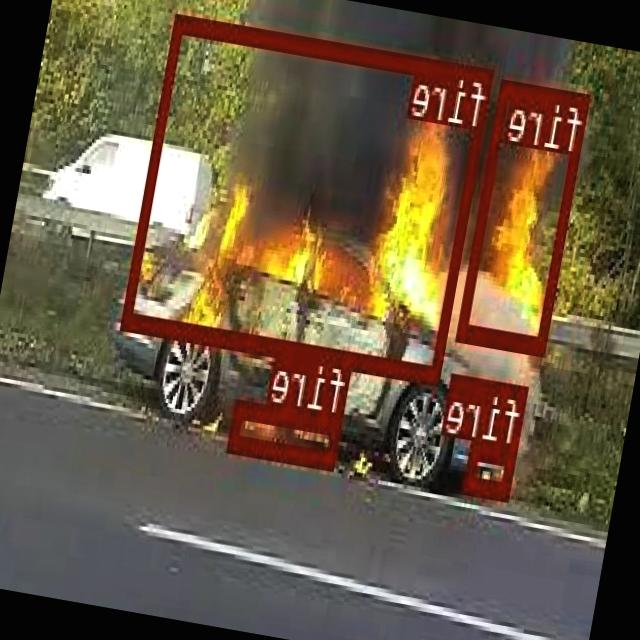fire: (123, 14, 494, 382), (458, 77, 591, 350), (230, 399, 344, 468), (465, 441, 519, 496)
